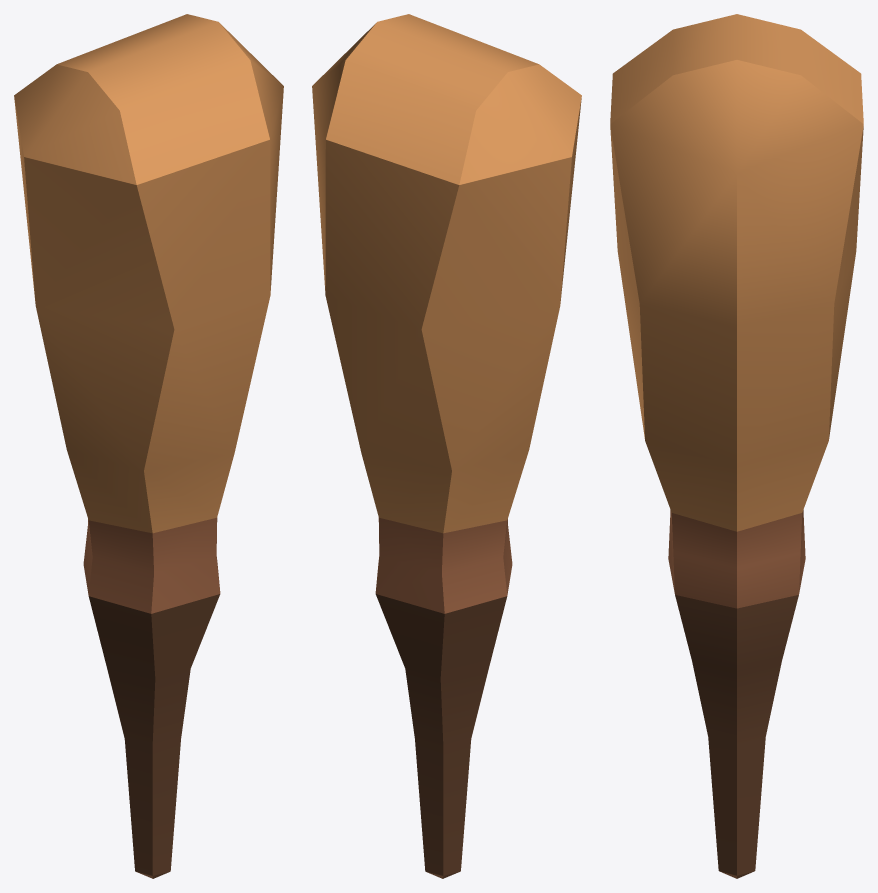
File: GoblinWeapon01.fbx
3 renders of one model, left to right at view 1: azimuth 30°, elevation 25°; view 2: azimuth 150°, elevation 25°; view 3: azimuth 270°, elevation 25°, orthographic.
Parts seen in each view (by area): view 1: GoblinWeapon; view 2: GoblinWeapon; view 3: GoblinWeapon.
Boxes of the visible parts, box(x1,y1,x2,y2) form: GoblinWeapon: box(14, 14, 283, 878); GoblinWeapon: box(312, 14, 581, 878); GoblinWeapon: box(610, 14, 863, 878).
Size of the model in its own units: 44.65 by 37.28 by 138.
